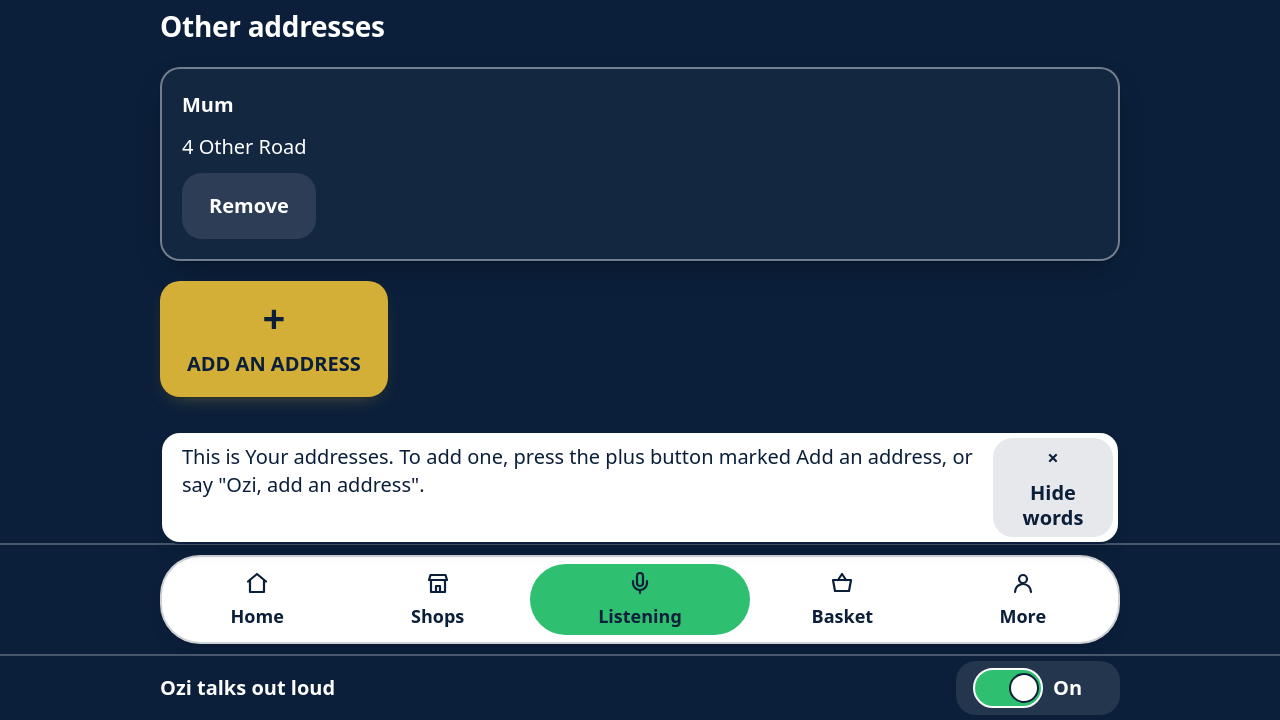
your addresses › removes one without a PIN
(page scrolled)
Click the button named "Remove Mum".
click(249, 206)  # box [182,173,316,239]
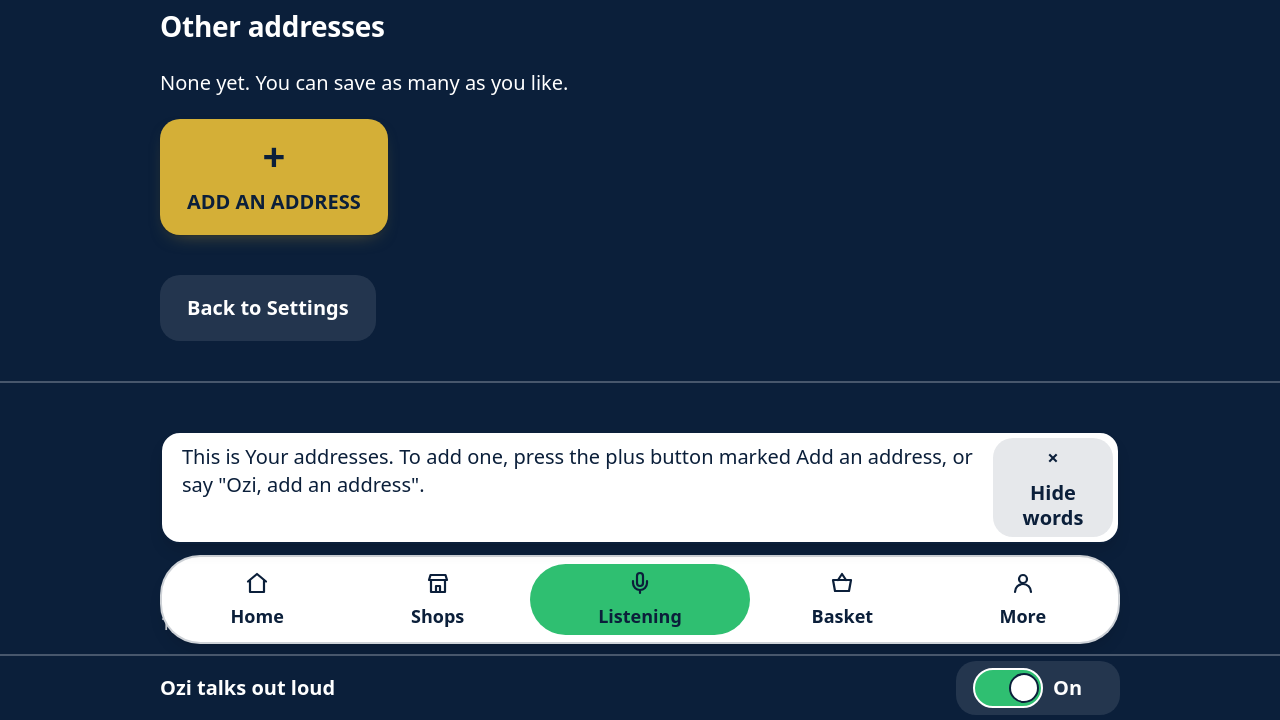
Result: the text "4 Other Road" is gone
